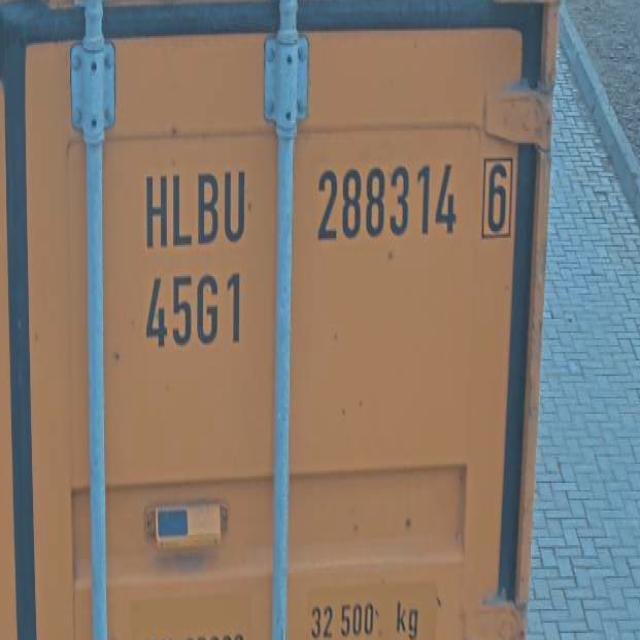dv: (475, 148, 518, 248)
owner: (140, 158, 250, 259)
serial: (309, 146, 464, 252)
size: (135, 265, 250, 358)
